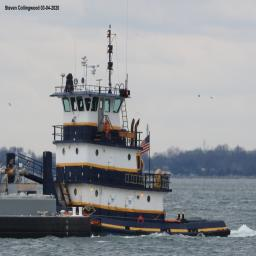tugboat: (6, 56, 234, 242)
